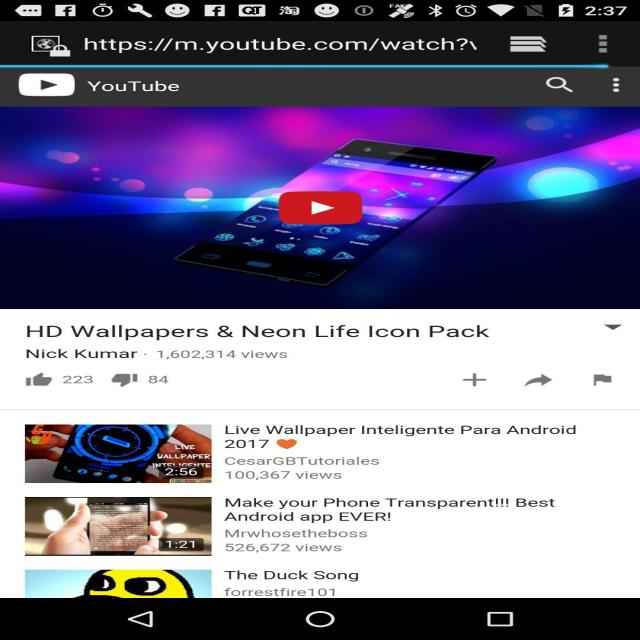button: (521, 72, 640, 104)
icon: (15, 66, 198, 100), (431, 371, 640, 395)
image: (12, 112, 640, 310), (30, 424, 215, 482), (28, 499, 213, 553), (25, 572, 208, 597)
text: (16, 315, 566, 362), (215, 418, 593, 484), (217, 493, 582, 553), (8, 369, 202, 401), (224, 564, 390, 586)
